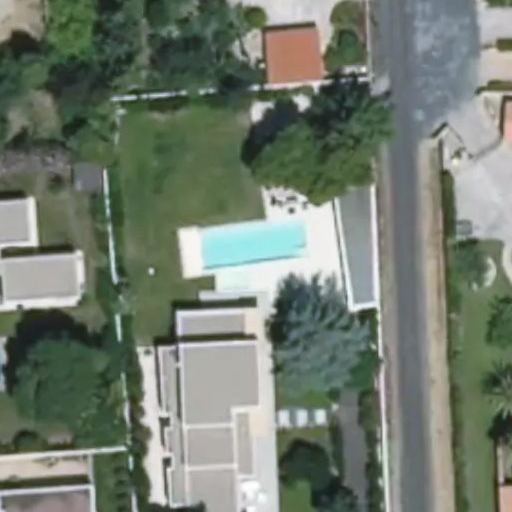pool: (184, 233, 329, 251)
